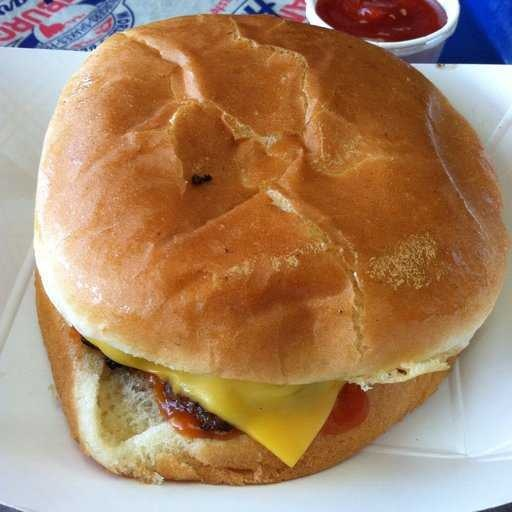hamburger: (50, 17, 472, 478)
